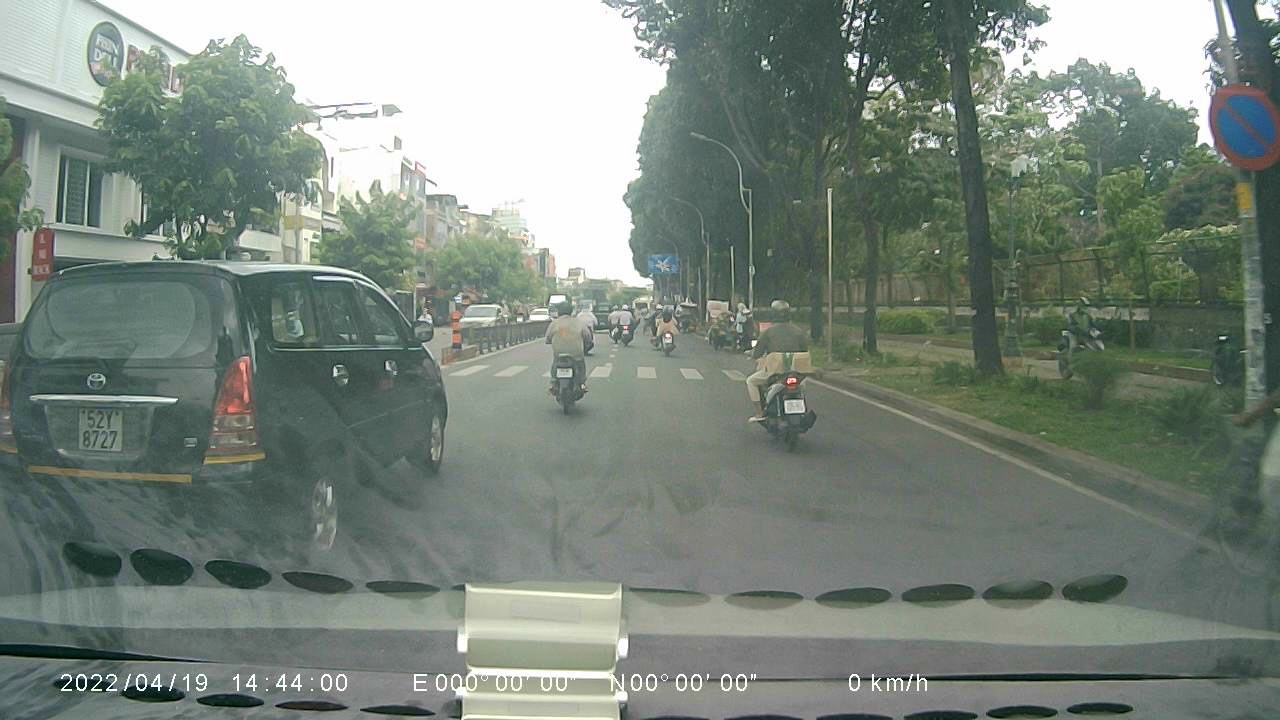Cam do xe: (1206, 80, 1279, 171)
